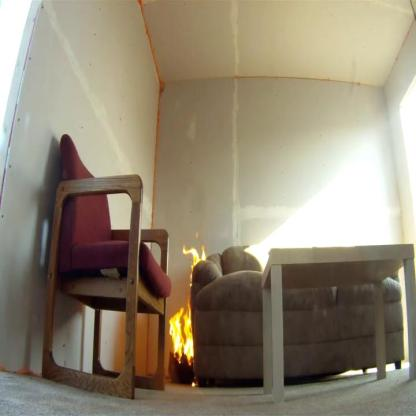fire: (167, 296, 196, 366), (182, 242, 208, 288)
